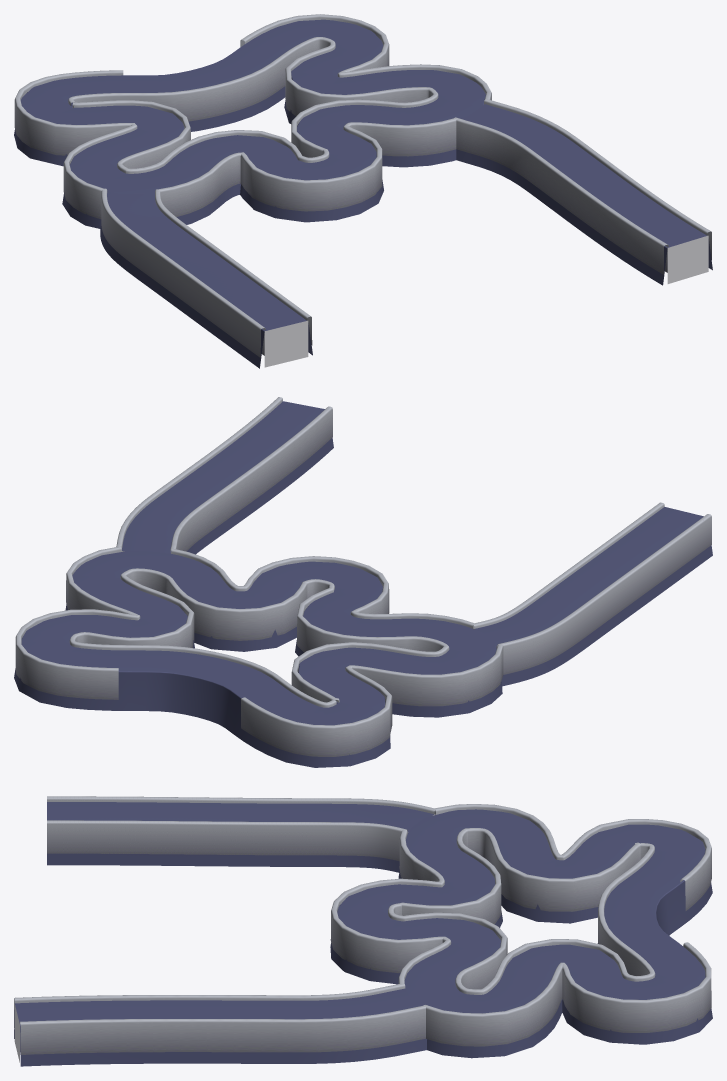
The model's file is map4.fbx.
3 renders of one model, top to bottom at view 1: azimuth 30°, elevation 25°; view 2: azimuth 150°, elevation 25°; view 3: azimuth 270°, elevation 25°, orthographic. The views are drawn at different scales.
Parts seen in each view (by area): view 1: Circle__1_, Path, Path__1_; view 2: Circle__1_, Path__1_, Path; view 3: Circle__1_, Path, Path__1_.
Part boxes in pixels (x1,y1,x2,y2): Circle__1_: (14, 14, 491, 228); Path: (454, 99, 712, 285); Path__1_: (100, 188, 312, 368); Circle__1_: (14, 546, 503, 767); Path__1_: (473, 502, 712, 686); Path: (116, 397, 333, 554); Circle__1_: (330, 804, 712, 1058); Path: (14, 983, 427, 1066); Path__1_: (47, 796, 435, 872).
Bounding box in the file's own units: 2663 × 236 × 3437.
